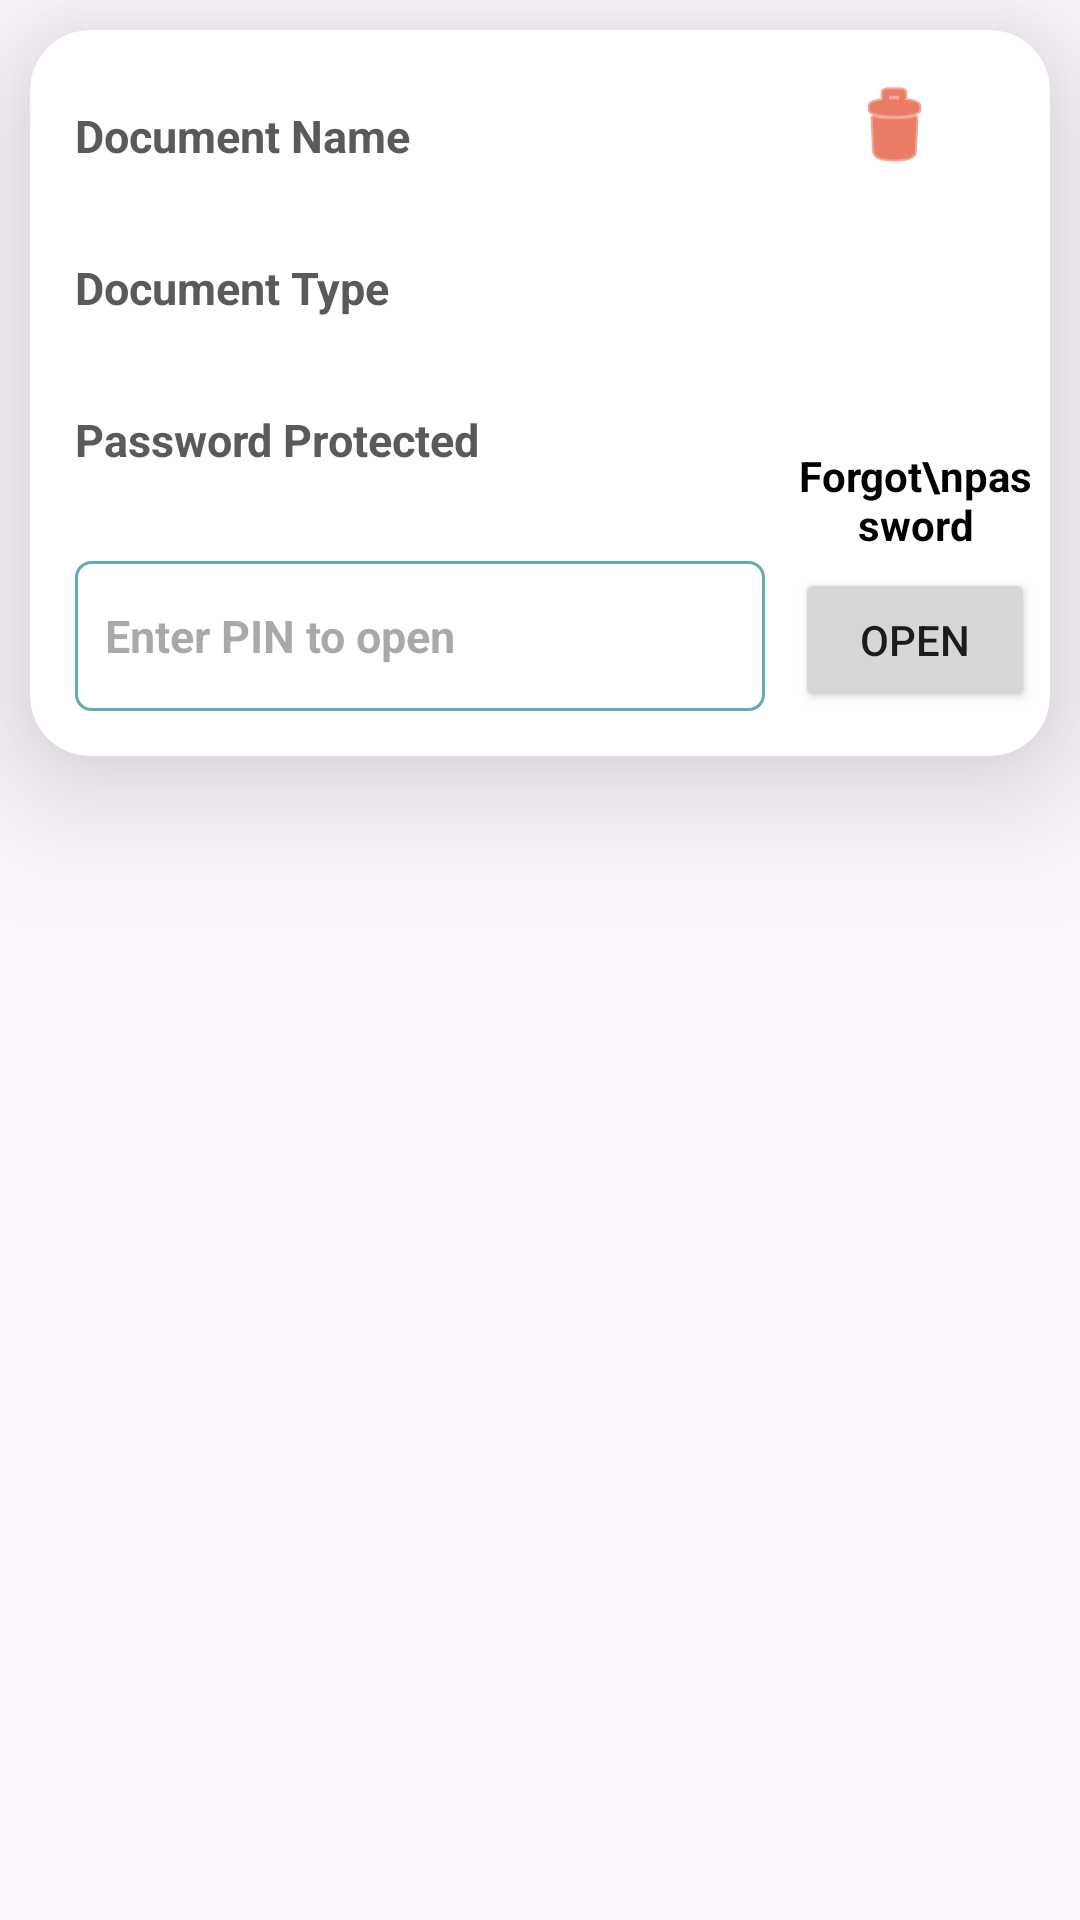

Where icons sit on this 1080px x 1920px app screen, as (x1, y1, x2, y2):
delete: (867, 87, 922, 162)
